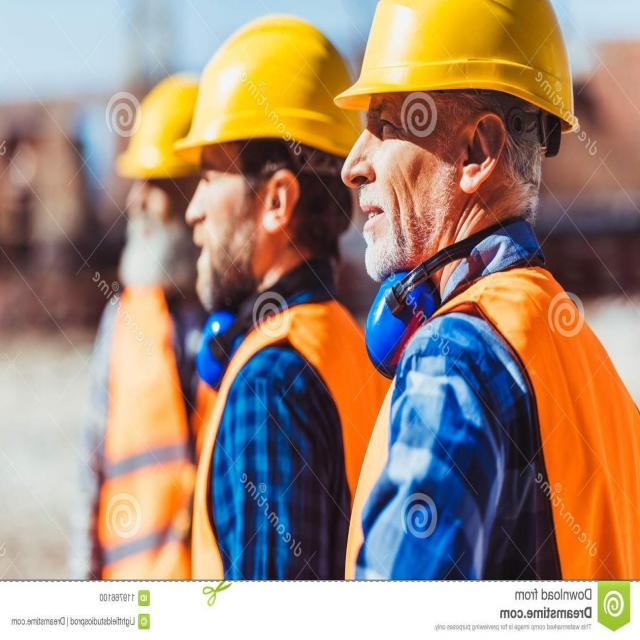Reflective-Jacket: (416, 261, 639, 576), (195, 298, 392, 578)
Safety-Helmet: (340, 0, 580, 129), (174, 11, 363, 165), (112, 68, 216, 190)
